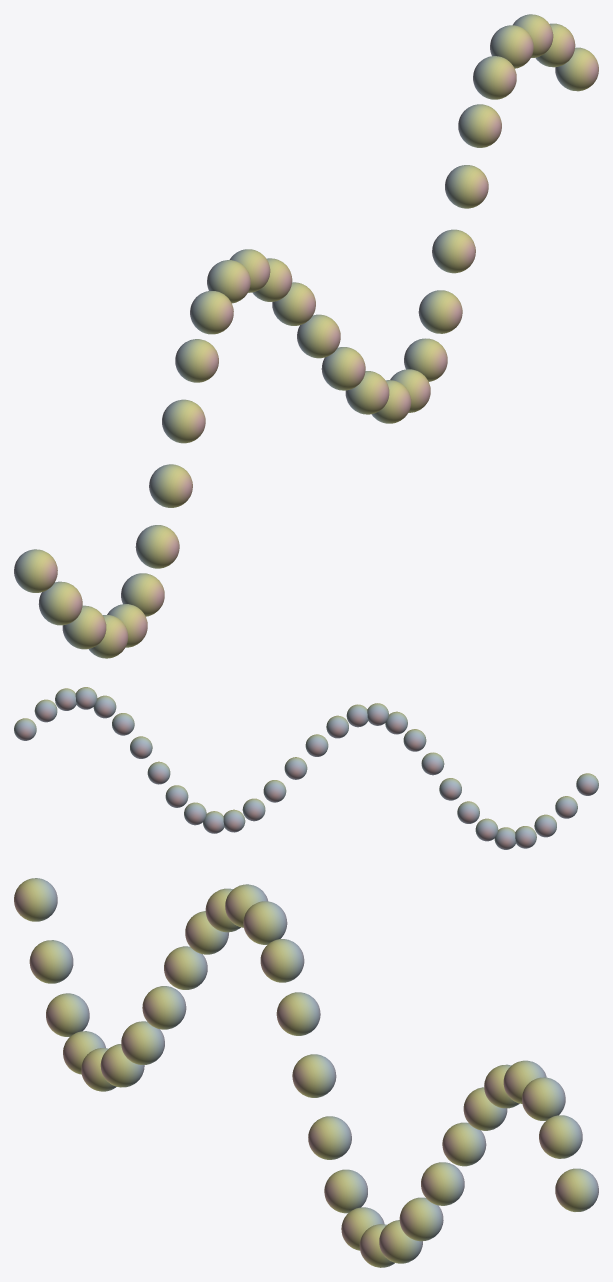
File: wave.glb
3 views of the same model, one above another, from view 1: azimuth 30°, elevation 25°; view 2: azimuth 150°, elevation 25°; view 3: azimuth 270°, elevation 25° (orthographic). The views are drawn at different scales.
Visible parts, largest first — view 1: wave.1; view 2: wave.1; view 3: wave.1.
Boxes of the visible parts, bbox=[...] form: wave.1: bbox=[14, 14, 598, 658]; wave.1: bbox=[14, 687, 598, 849]; wave.1: bbox=[14, 878, 598, 1267].
Bounding box in the file's own units: 454 × 163 × 271.
1 material, 1 textured.
